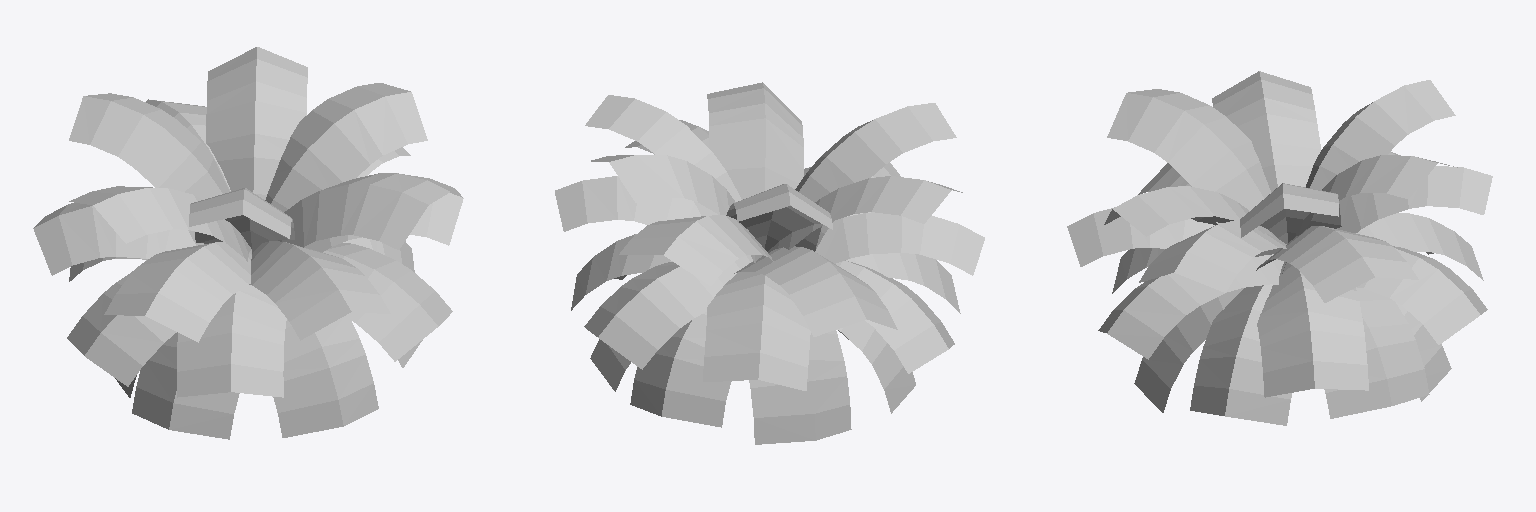
File: palm_leaves.obj
3 views of the same model, side by side, from view 1: azimuth 30°, elevation 25°; view 2: azimuth 150°, elevation 25°; view 3: azimuth 270°, elevation 25° (orthographic).
Visible parts, largest first — view 1: palm; view 2: palm; view 3: palm.
Part boxes in pixels (left/top/right/bottom): palm: left=33, top=47, right=463, bottom=439; palm: left=555, top=82, right=984, bottom=444; palm: left=1067, top=71, right=1492, bottom=425.
Bounding box in the file's own units: 7.07 × 5.02 × 7.3.